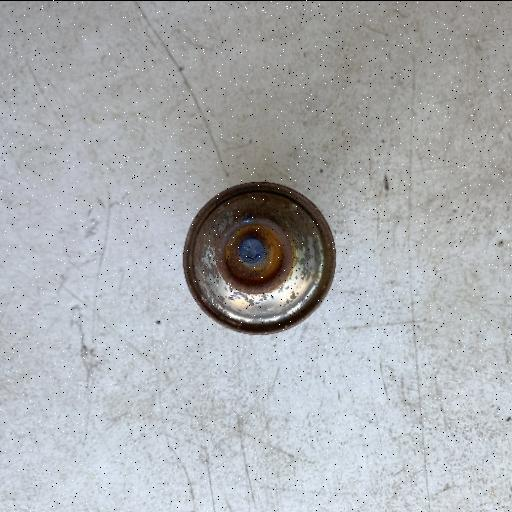Metal: (181, 180, 337, 336)
